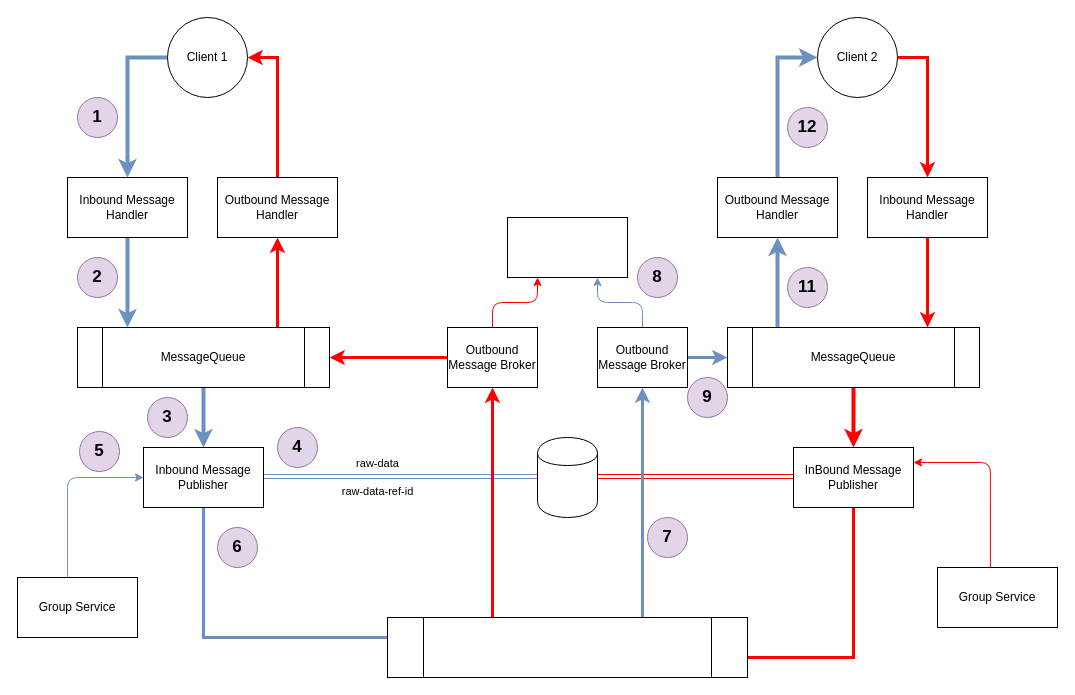
Some shapes in this 1075 by 695 pixel diagram are drawn without their labels. The centre of each missing label's shape, as x and y in pixels:
"Centeralize Message Queue" belongs at point 567,647.
"Redis Cluster" belongs at point 567,477.
"Session Service" belongs at point 567,247.
